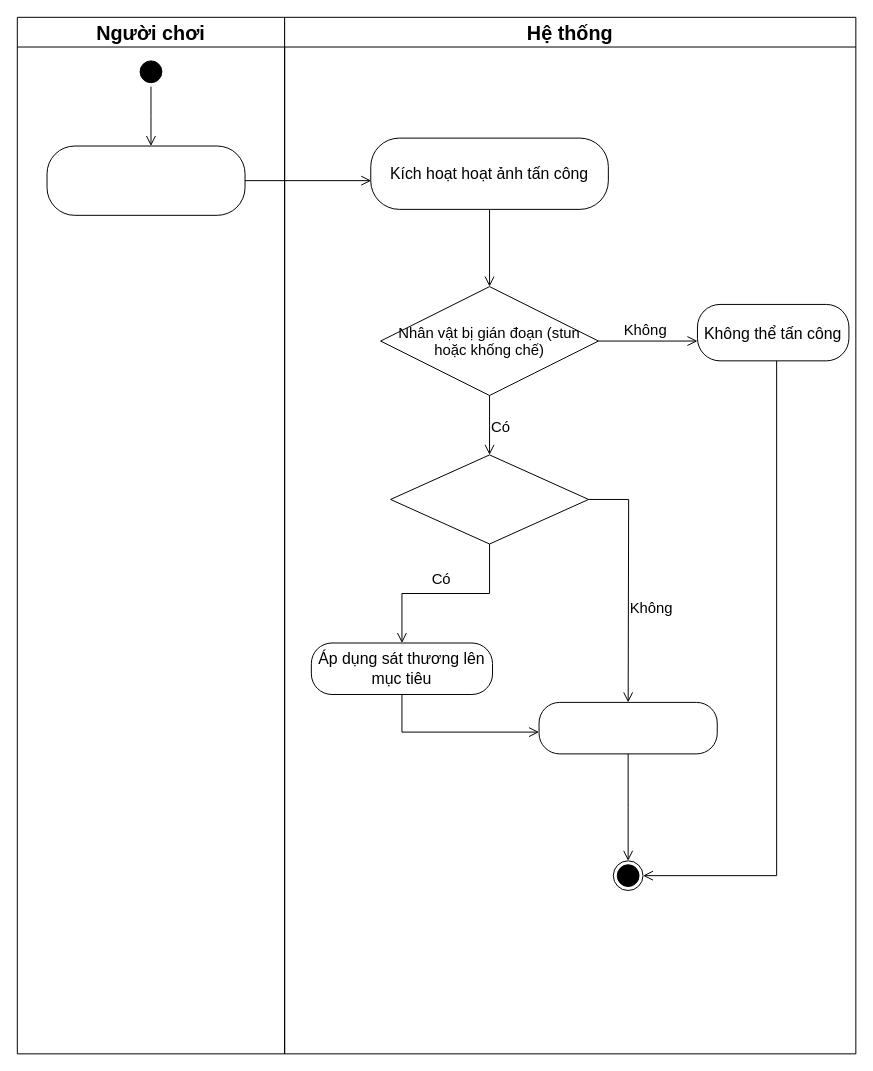
This 873x1071 diagram has some shape labels left out. Each missing label, with the centre of its shape:
Kiểm tra mục tiêu trong phạm vi tấn công: [489,499]
Kết thúc hoạt ảnh tấn công: [627,727]
Người chơi nhấn nút tấn công (chuột trái): [145,180]
